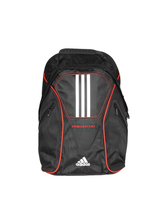bag: (33, 36, 136, 180)
